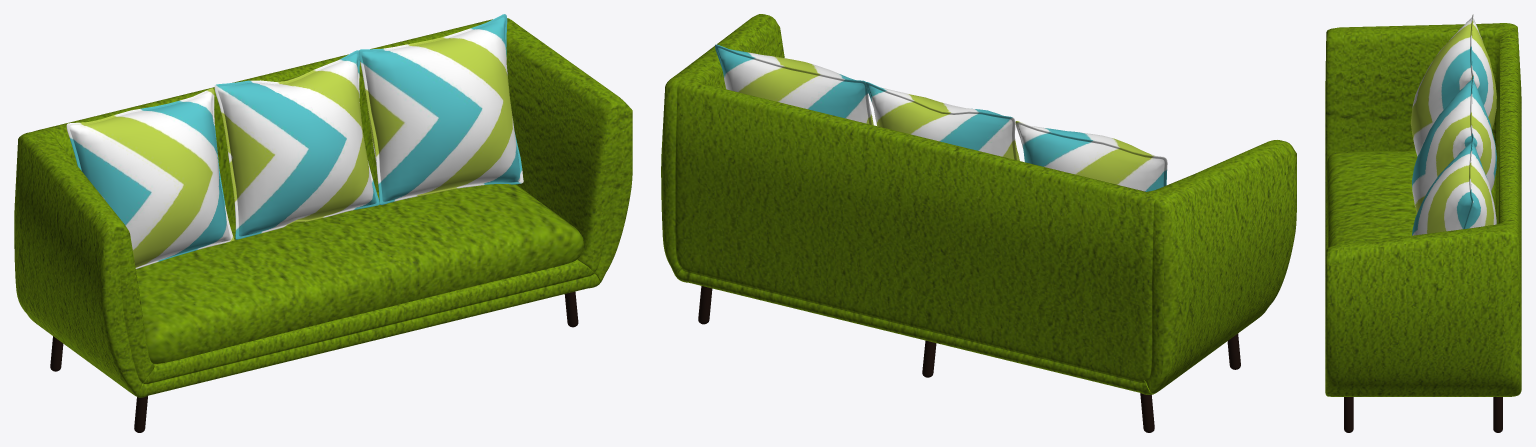
The picture shows the model from 3 angles, left to right: view 1: azimuth 30°, elevation 25°; view 2: azimuth 150°, elevation 25°; view 3: azimuth 270°, elevation 25°; orthographic projection. The views are drawn at different scales.
Visible parts, largest first — view 1: pillow_01_geo, couch, seat, Legs_03_geo; view 2: couch, pillow_01_geo, Legs_03_geo; view 3: couch, pillow_01_geo, seat, Legs_03_geo.
Part boxes in pixels (bbox=[...]): pillow_01_geo: bbox=[66, 14, 523, 268]; couch: bbox=[14, 18, 632, 397]; seat: bbox=[136, 184, 583, 363]; Legs_03_geo: bbox=[50, 291, 578, 432]; couch: bbox=[661, 14, 1296, 394]; pillow_01_geo: bbox=[715, 44, 1167, 191]; Legs_03_geo: bbox=[698, 286, 1240, 432]; couch: bbox=[1325, 23, 1521, 396]; pillow_01_geo: bbox=[1410, 14, 1496, 235]; seat: bbox=[1326, 150, 1496, 247]; Legs_03_geo: bbox=[1344, 397, 1502, 432].
Bounding box in the file's own units: 2.09 × 0.9805 × 0.7535.
Materials: 4 (3 with a texture image).
